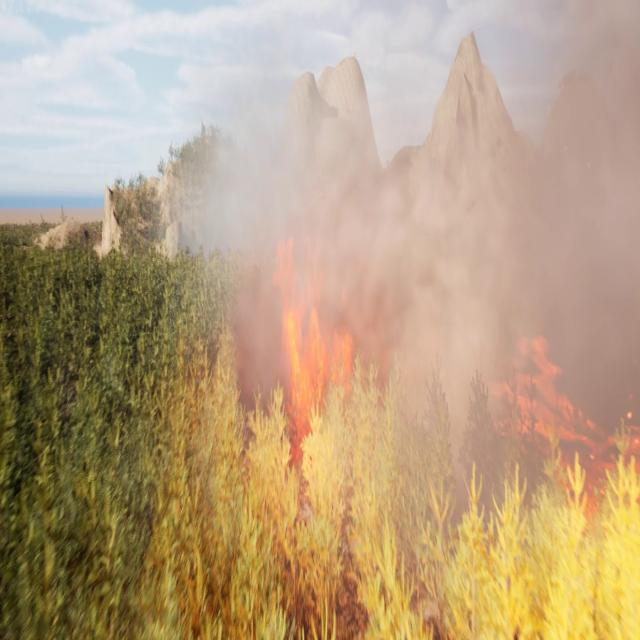fire: (492, 323, 640, 521), (271, 234, 369, 437)
smoke: (172, 0, 640, 516)
